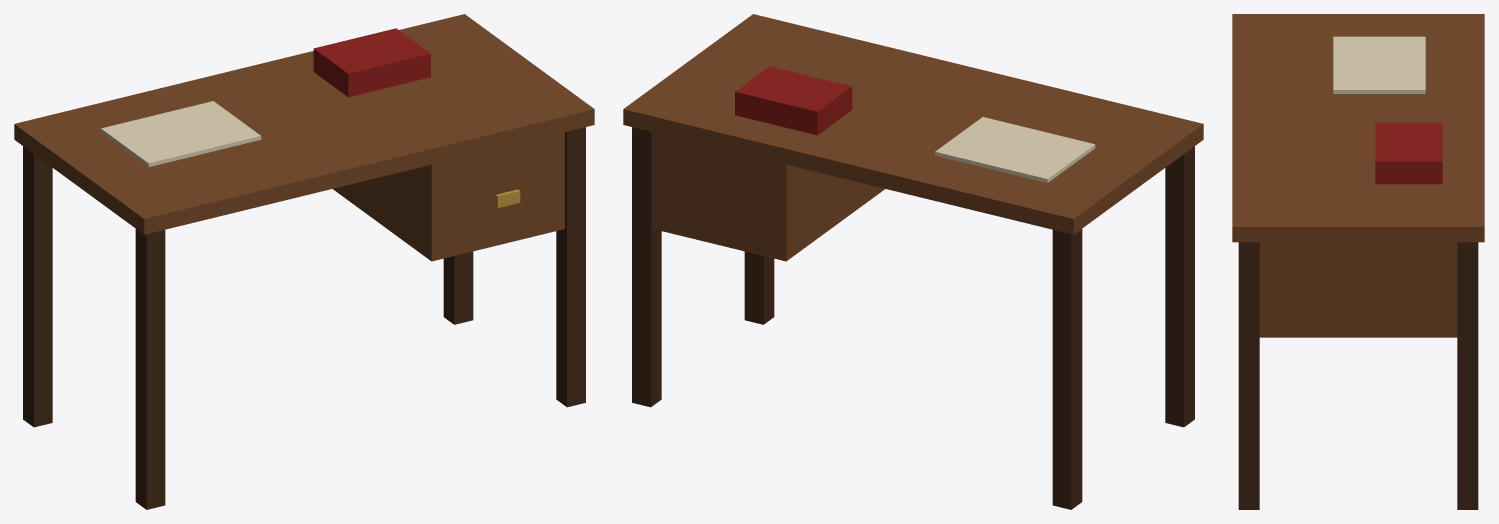
The model's file is desk.obj.
3 renders of one model, left to right at view 1: azimuth 30°, elevation 25°; view 2: azimuth 150°, elevation 25°; view 3: azimuth 270°, elevation 25°, orthographic. The views are drawn at different scales.
Visible parts, largest first — view 1: Cube, Cube.005, Cube.001, Cube.002, Cube.003, Cube.007, Cube.008, Cube.004; view 2: Cube, Cube.005, Cube.002, Cube.001, Cube.004, Cube.007, Cube.008, Cube.003; view 3: Cube, Cube.005, Cube.003, Cube.004, Cube.007, Cube.008.
Boxes of the visible parts, x1,y1,x2,y2 form: Cube: (14, 14, 594, 234); Cube.005: (333, 132, 564, 261); Cube.001: (135, 229, 165, 509); Cube.002: (23, 146, 52, 427); Cube.003: (556, 127, 585, 407); Cube.007: (101, 101, 261, 167); Cube.008: (313, 28, 430, 97); Cube.004: (443, 251, 473, 324); Cube: (623, 14, 1203, 234); Cube.005: (653, 132, 884, 261); Cube.002: (1052, 229, 1082, 509); Cube.001: (1165, 146, 1194, 427); Cube.004: (632, 127, 661, 407); Cube.007: (935, 117, 1095, 182); Cube.008: (735, 66, 852, 135); Cube.003: (744, 251, 774, 324); Cube: (1232, 14, 1484, 242); Cube.005: (1259, 242, 1457, 337); Cube.003: (1238, 242, 1259, 509); Cube.004: (1457, 242, 1478, 509); Cube.007: (1333, 36, 1425, 93); Cube.008: (1375, 122, 1442, 184).
Size of the model in its own units: 1.2 by 0.81 by 0.6.
